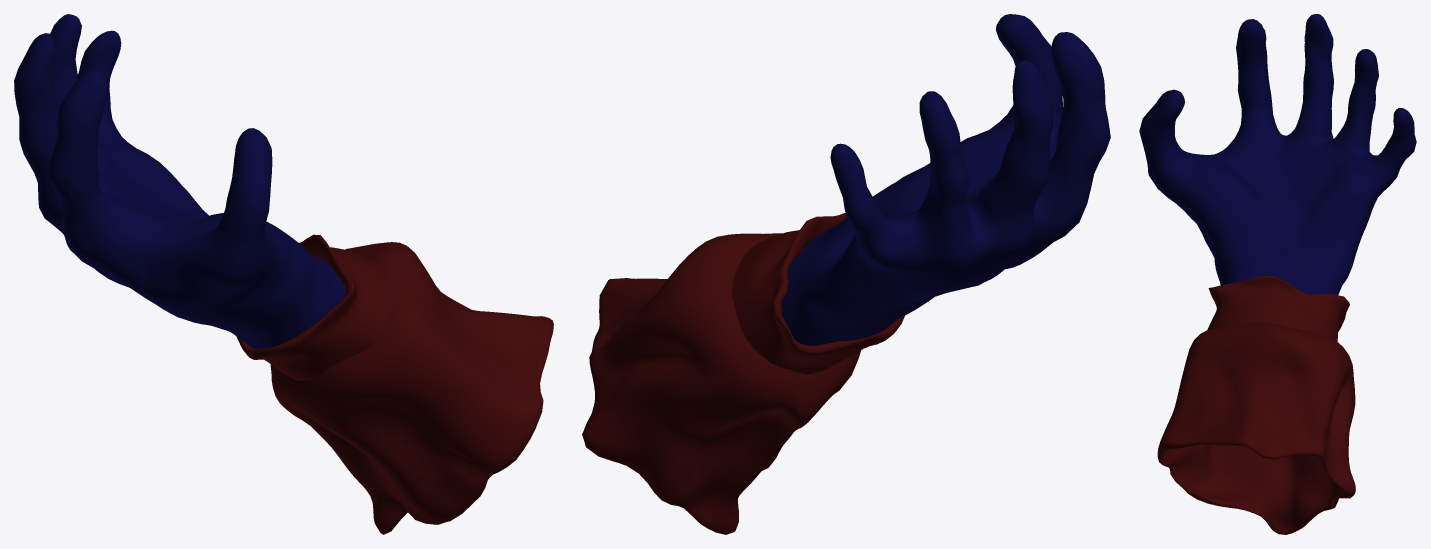
Rendered from clown hand textured.fbx.
The picture shows the model from 3 angles, left to right: view 1: azimuth 30°, elevation 25°; view 2: azimuth 150°, elevation 25°; view 3: azimuth 270°, elevation 25°; orthographic projection. The views are drawn at different scales.
Visible parts, largest first — view 1: PM3D_Cylinder3D_1; view 2: PM3D_Cylinder3D_1; view 3: PM3D_Cylinder3D_1.
Part boxes in pixels (bbox=[...]): PM3D_Cylinder3D_1: bbox=[14, 14, 553, 534]; PM3D_Cylinder3D_1: bbox=[582, 14, 1110, 534]; PM3D_Cylinder3D_1: bbox=[1139, 14, 1416, 534].
Size of the model in its own units: 5.4 by 5.78 by 3.56.
